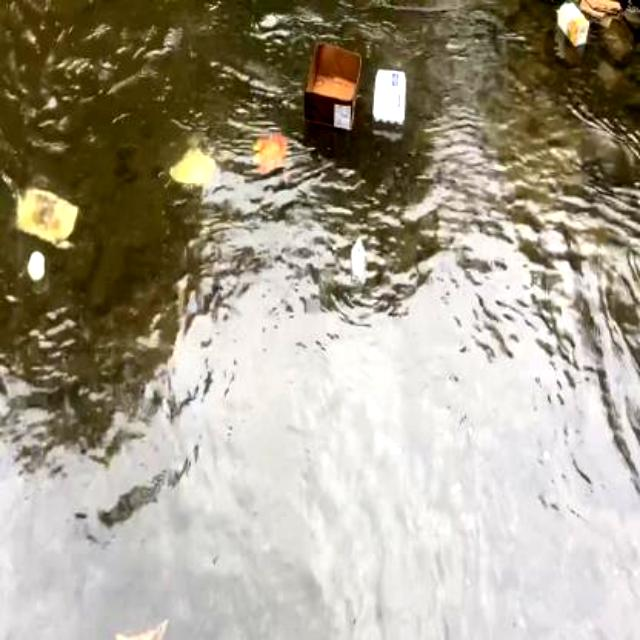Cardboard: (298, 37, 367, 141), (548, 0, 591, 52), (254, 130, 292, 180)
Metal: (162, 140, 222, 200)
Paper: (577, 0, 629, 32), (22, 244, 50, 282)
Plastic: (13, 172, 86, 255), (369, 61, 407, 127), (350, 231, 368, 297)
